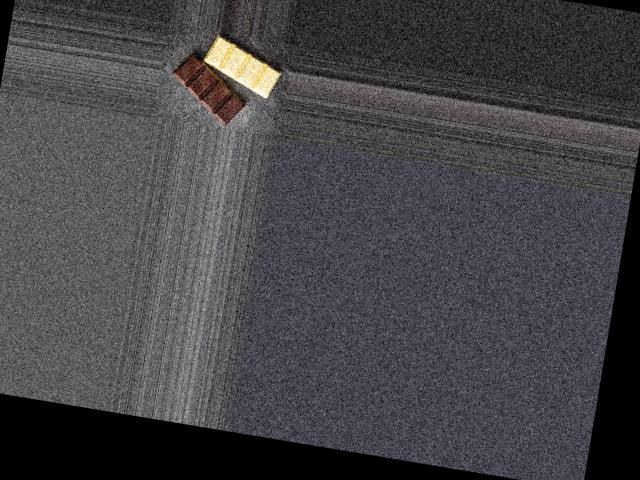chocolate: (166, 29, 290, 131)
